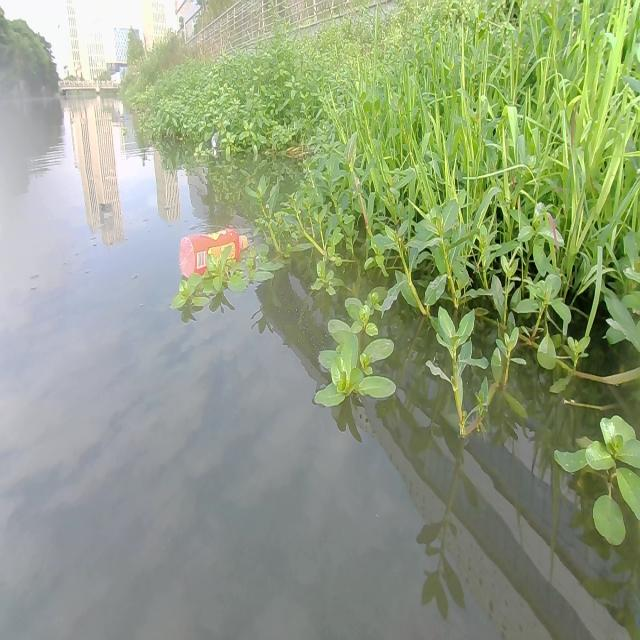bottle: (181, 224, 249, 278), (210, 134, 218, 153)
